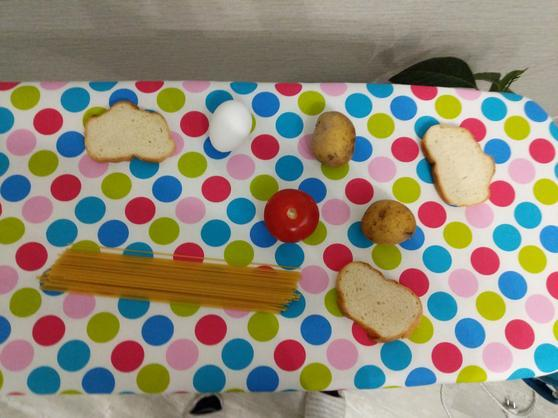egg: (198, 95, 264, 158)
potato: (304, 106, 367, 171), (354, 194, 424, 246)
spaghetti: (36, 246, 317, 323)
tomato: (258, 179, 325, 250)
white_bread: (329, 256, 440, 343), (68, 96, 187, 165), (416, 115, 495, 212)
